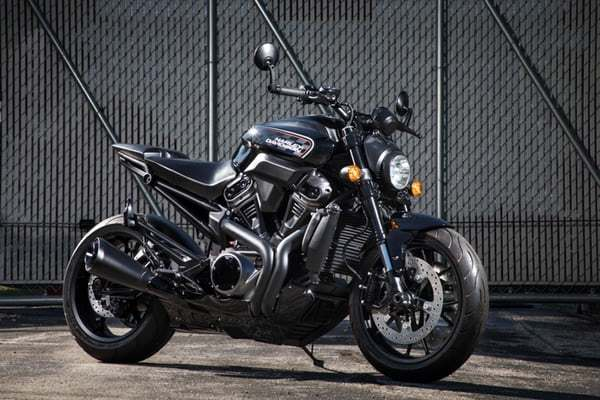18_label: (57, 33, 491, 383)
